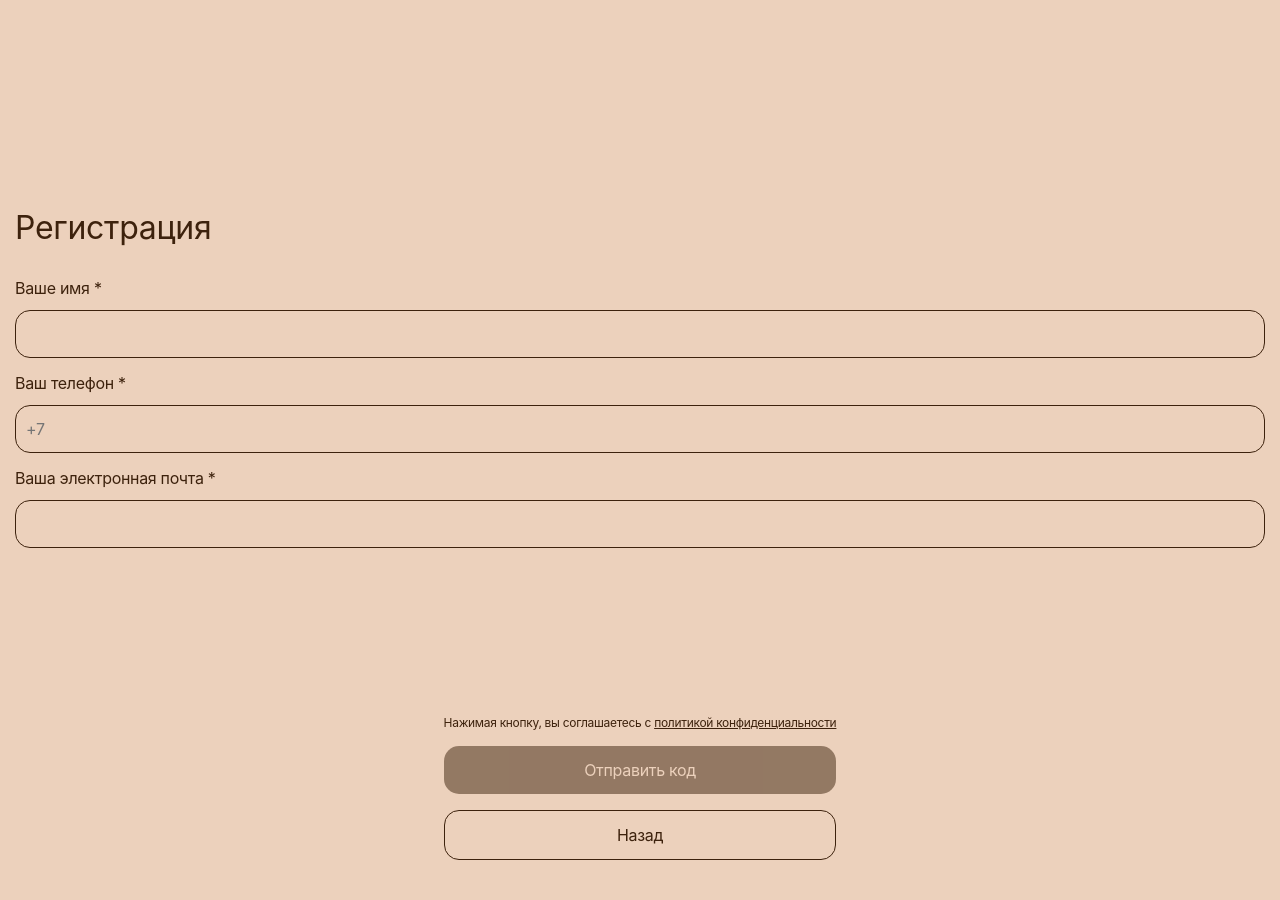
Test: RegisterStep1 Component › валидация поля "Имя" › показывает ошибку при слишком коротком имени
This screenshot has width=1280, height=900.
In the field labelled "Ваше имя *": coordinates (640, 334) [15, 310, 1265, 358], type "А"
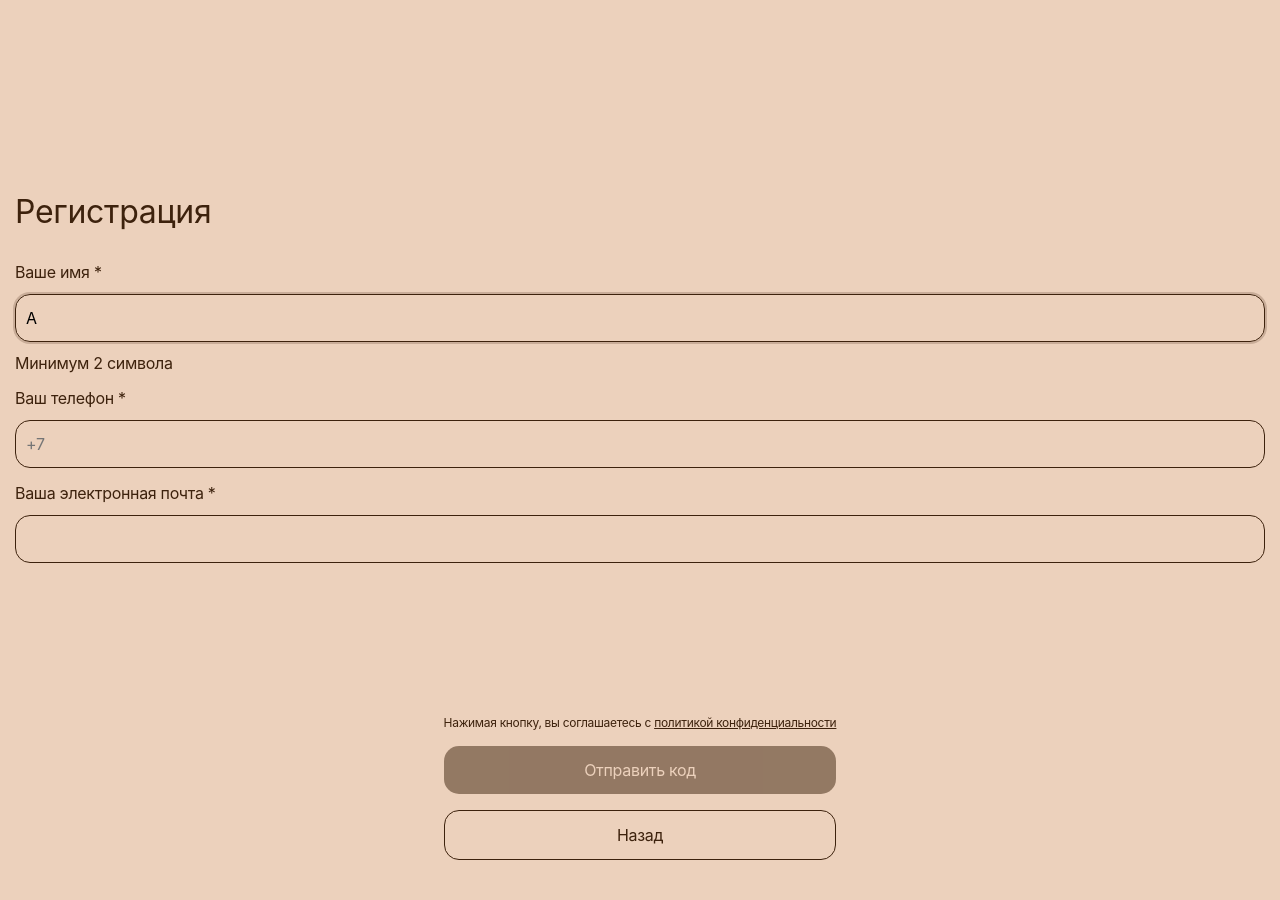
Now the text "Минимум 2 символа" is shown, box [15, 353, 173, 373]
